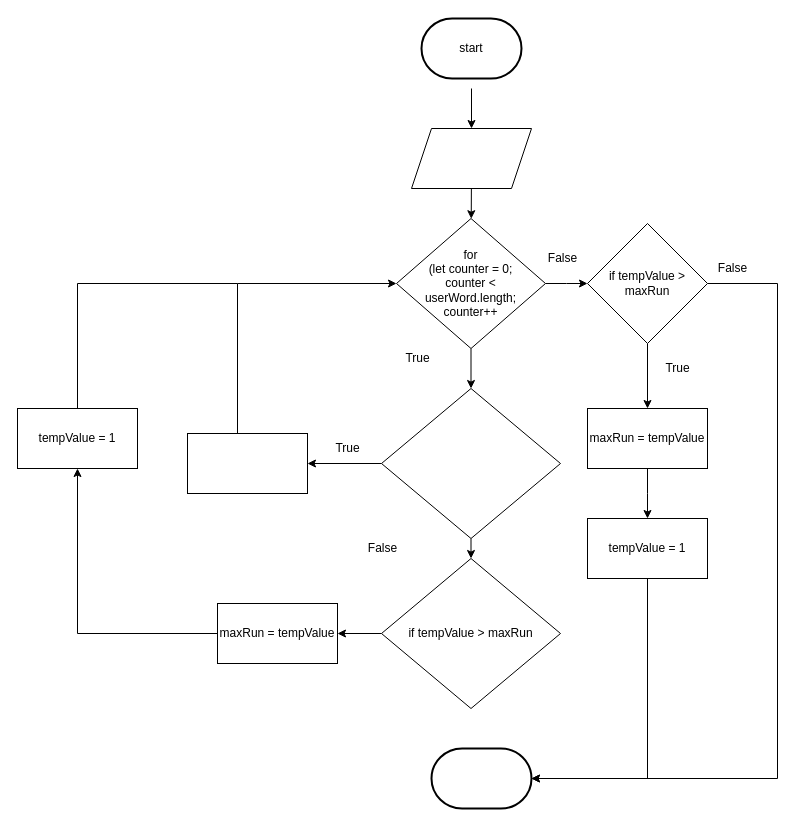
The diagram is 803 pixels wide and 826 high, and some of its shapes have lost their labels. Here are the shapes that lost their labels. From the top down, the centre of each, then its label:
At pixel 471 158: "Get userString".
At pixel 247 463: "tempValue += 1".
At pixel 470 463: "if userWord.chartAt (counter) == userWord.chartAt (counter + 1)".
